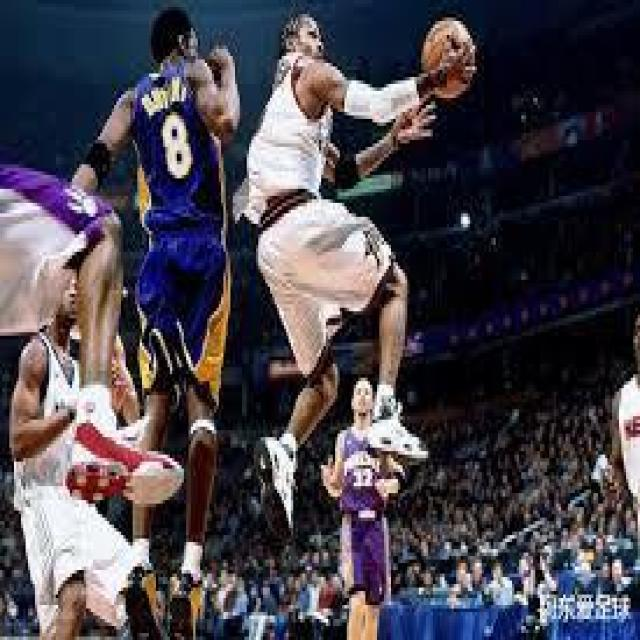ball: (422, 18, 478, 102)
person: (233, 7, 477, 546), (115, 7, 243, 588), (15, 266, 136, 640), (319, 367, 405, 640)
shoot: (233, 7, 477, 546)
